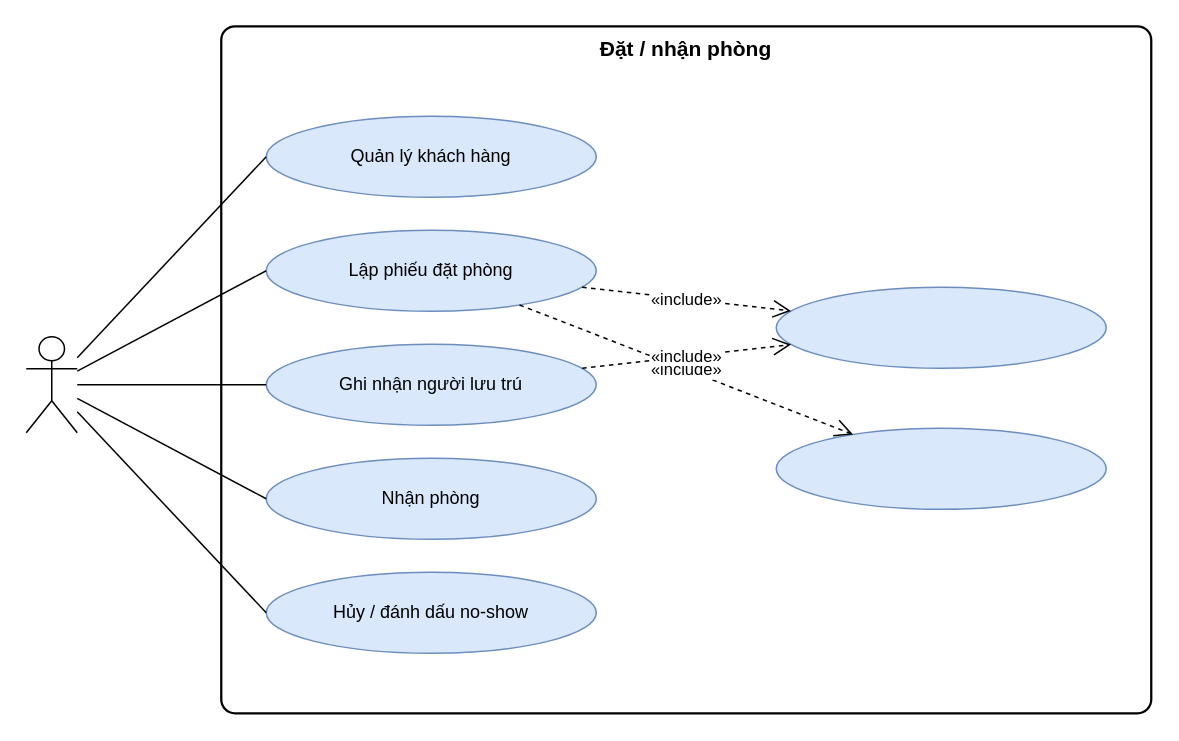
The diagram is 1179 pixels wide and 741 high, and some of its shapes have lost their labels. Here are the shapes that lost their labels. From the top down, the centre of each, then its label:
(x=940, y=327): Kiểm tra sức chứa
(x=51, y=384): Lễ tân
(x=940, y=468): Kiểm tra trùng lịch
